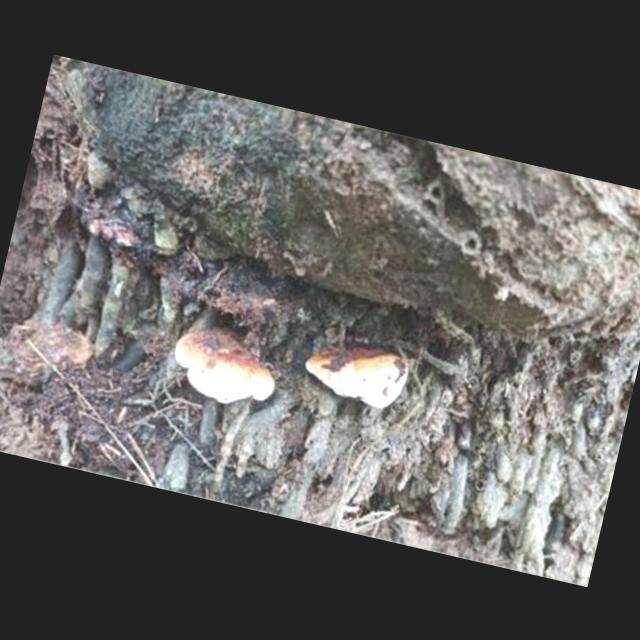ganoderma: (164, 291, 295, 416), (299, 324, 416, 415)
